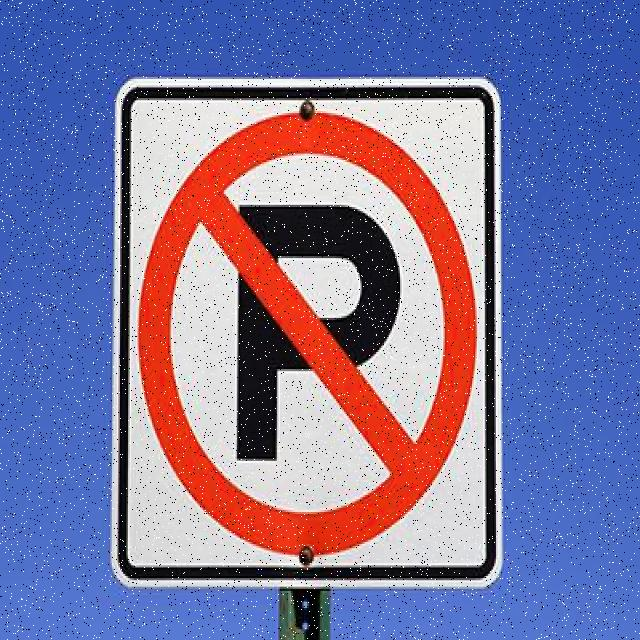No_parking: (139, 110, 476, 549)
